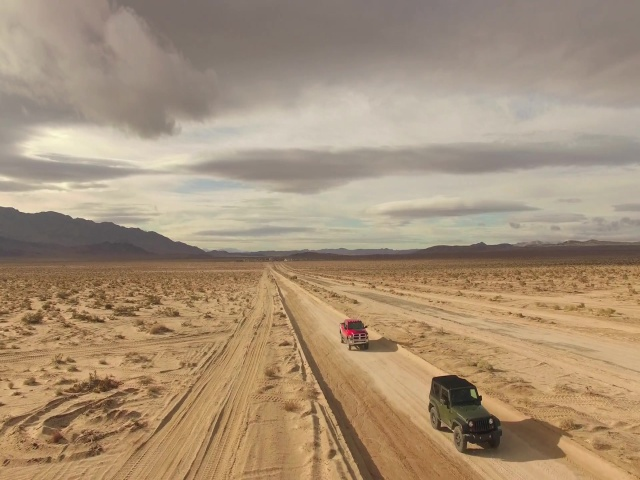vehicle: (429, 374, 503, 453), (338, 318, 370, 351)
